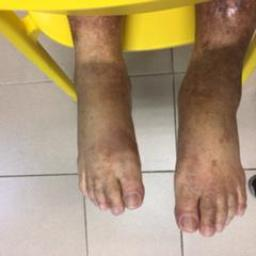Dorsal View -Both Feet-: (59, 27, 255, 240)
